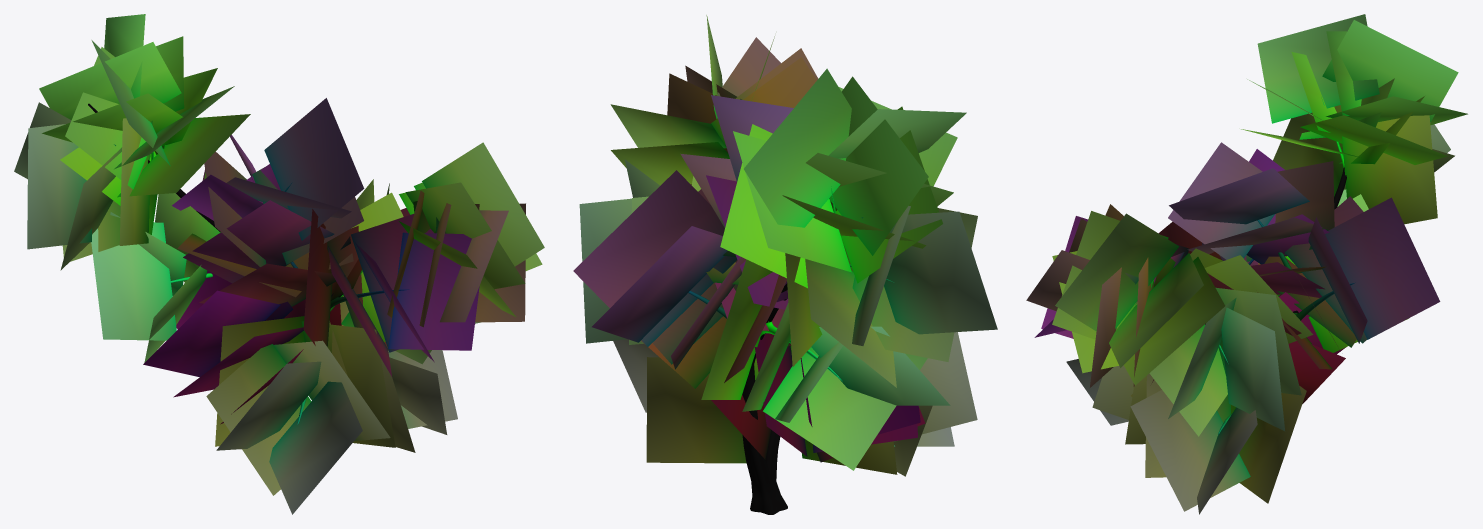
Rendered from URP_P15_Tree_6_LOD_0.fbx.
3 views of the same model, side by side, from view 1: azimuth 30°, elevation 25°; view 2: azimuth 150°, elevation 25°; view 3: azimuth 270°, elevation 25° (orthographic). The views are drawn at different scales.
Parts seen in each view (by area): view 1: Tree_6_LOD_0; view 2: Tree_6_LOD_0; view 3: Tree_6_LOD_0.
Part boxes in pixels (x1,y1,x2,y2): Tree_6_LOD_0: (14, 14, 544, 514); Tree_6_LOD_0: (573, 15, 997, 514); Tree_6_LOD_0: (1026, 14, 1467, 514).
Size of the model in its own units: 718 by 722 by 707.
